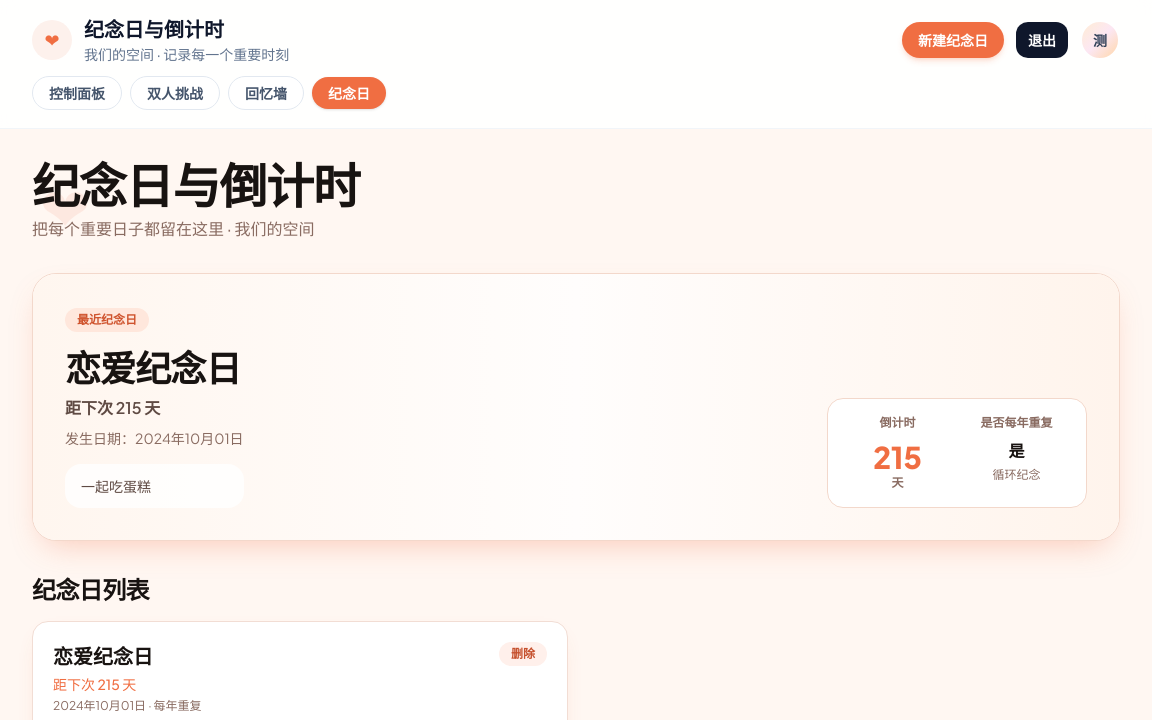
Test: AnniversariesPage › 删除纪念日成功后刷新列表
Expected: the button "新建纪念日" is enabled, x1=902 y1=22 x2=1004 y2=58
Click the button named "删除-恋爱纪念日" at (523, 654), box x1=499 y1=642 x2=547 y2=666
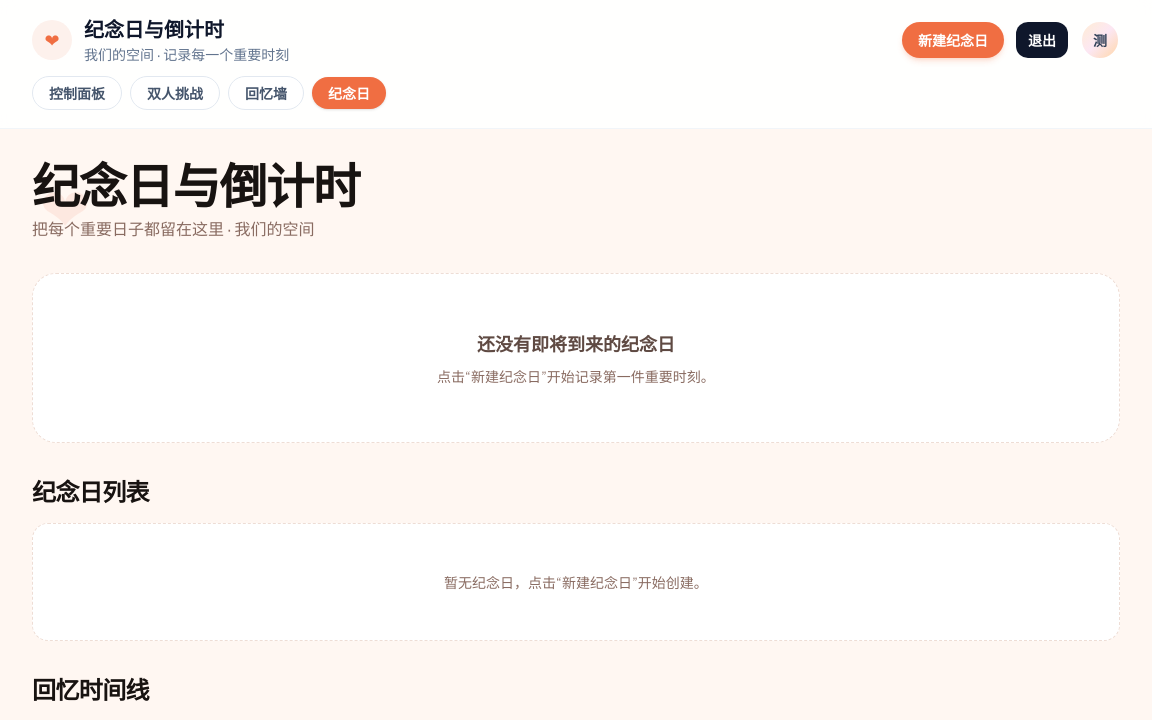
Expected: the button "删除-恋爱纪念日" is gone
